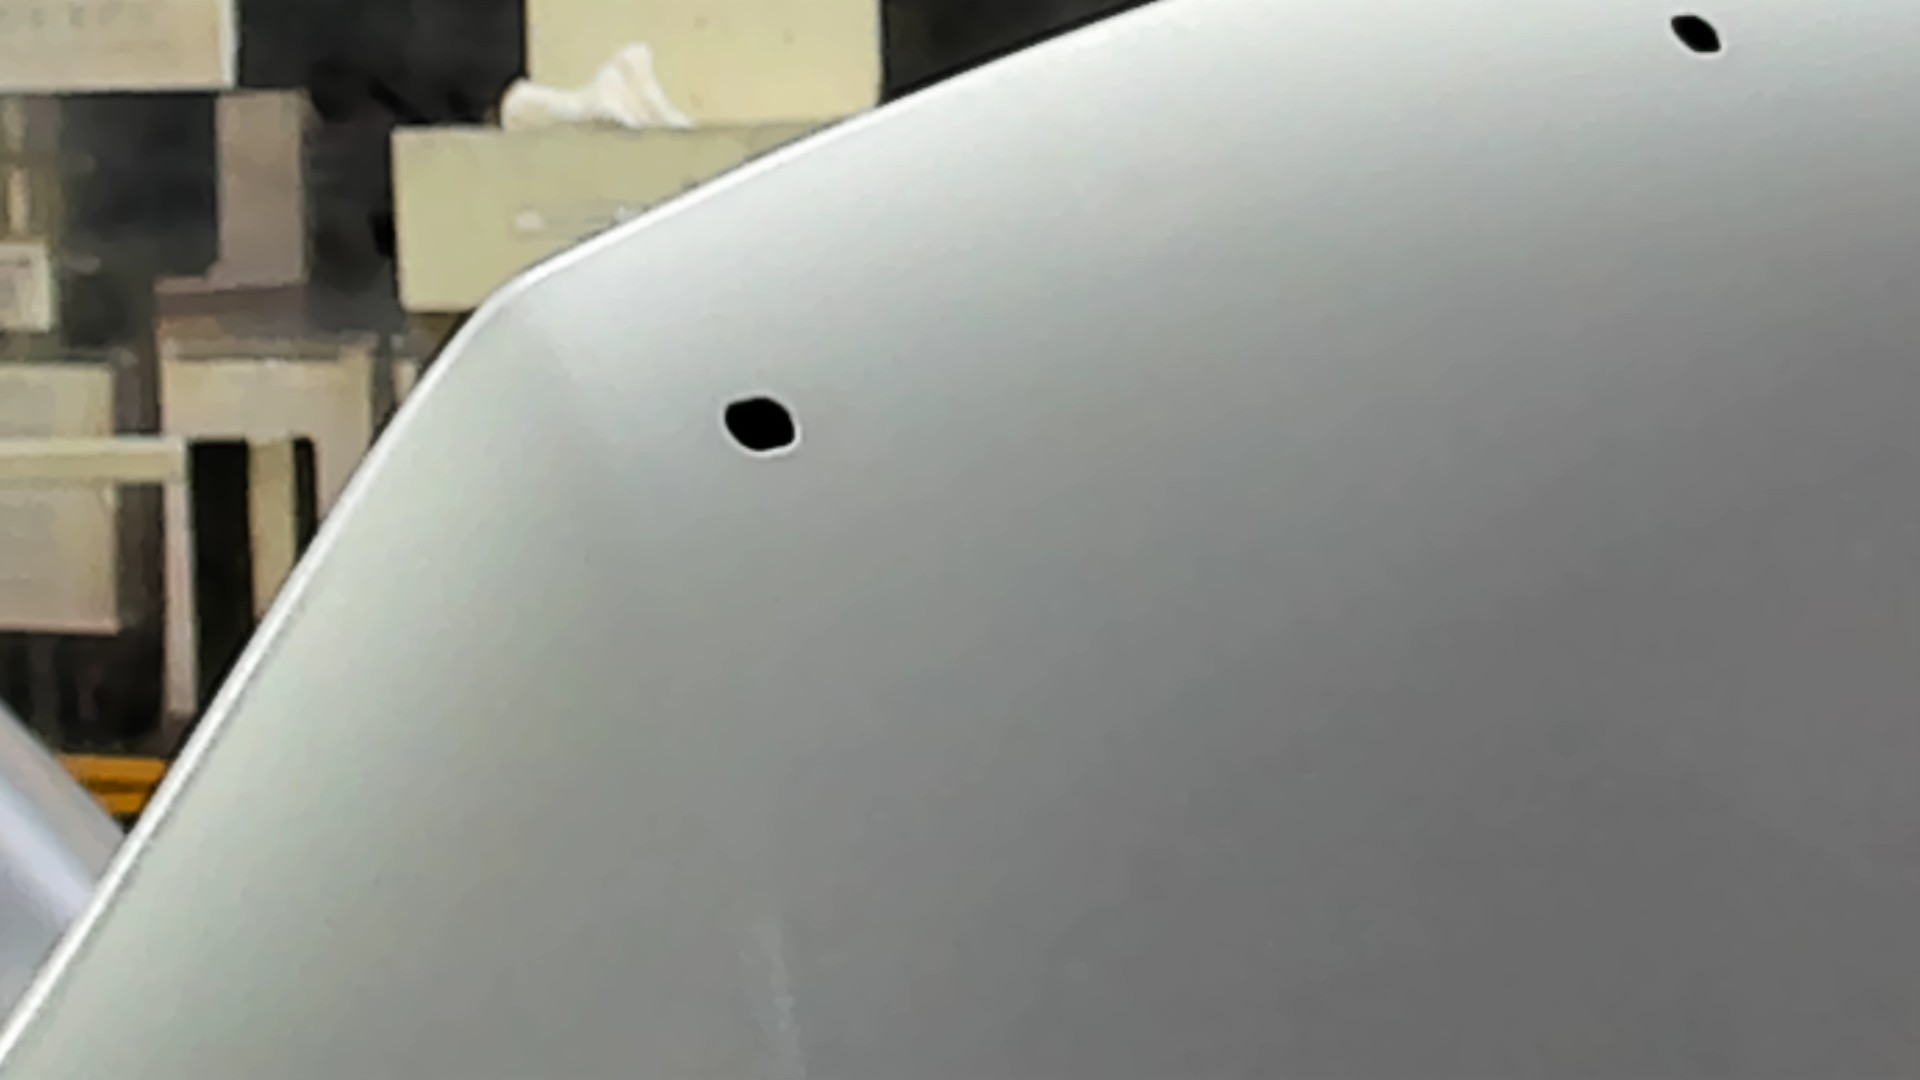amorfo: (719, 392, 802, 458), (1665, 8, 1725, 59)
